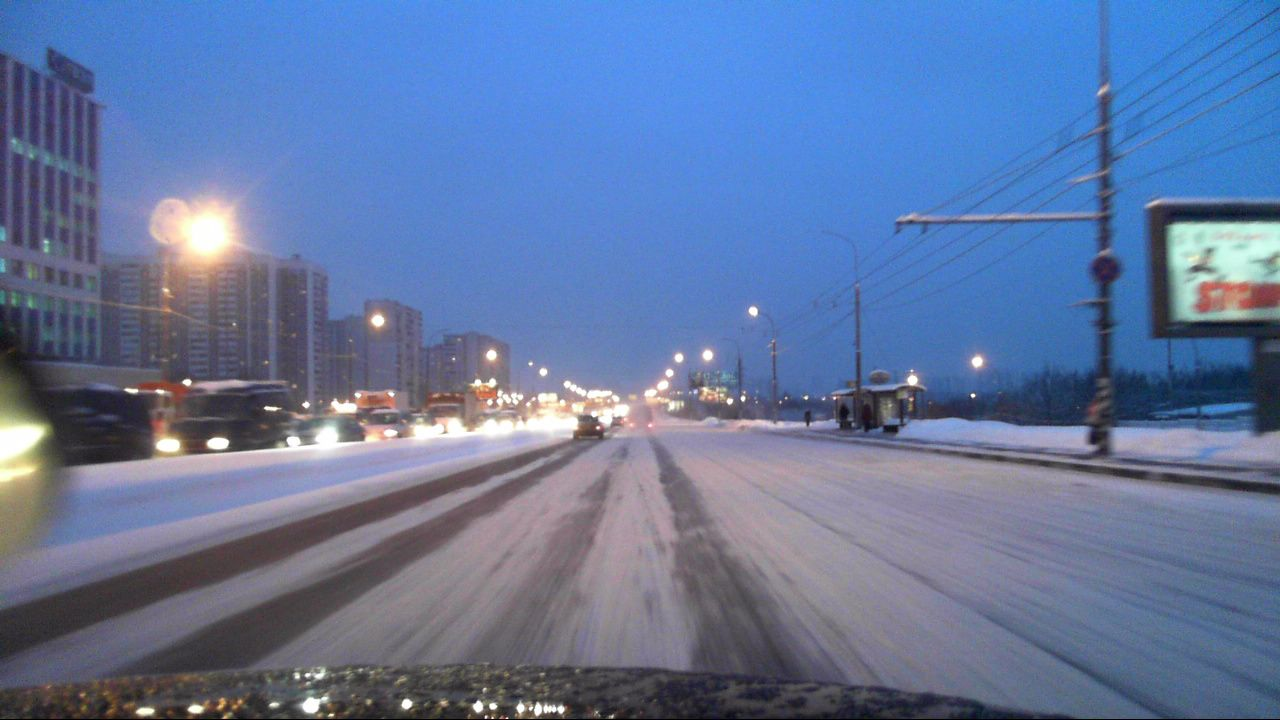No Parking: (1088, 245, 1123, 281)
